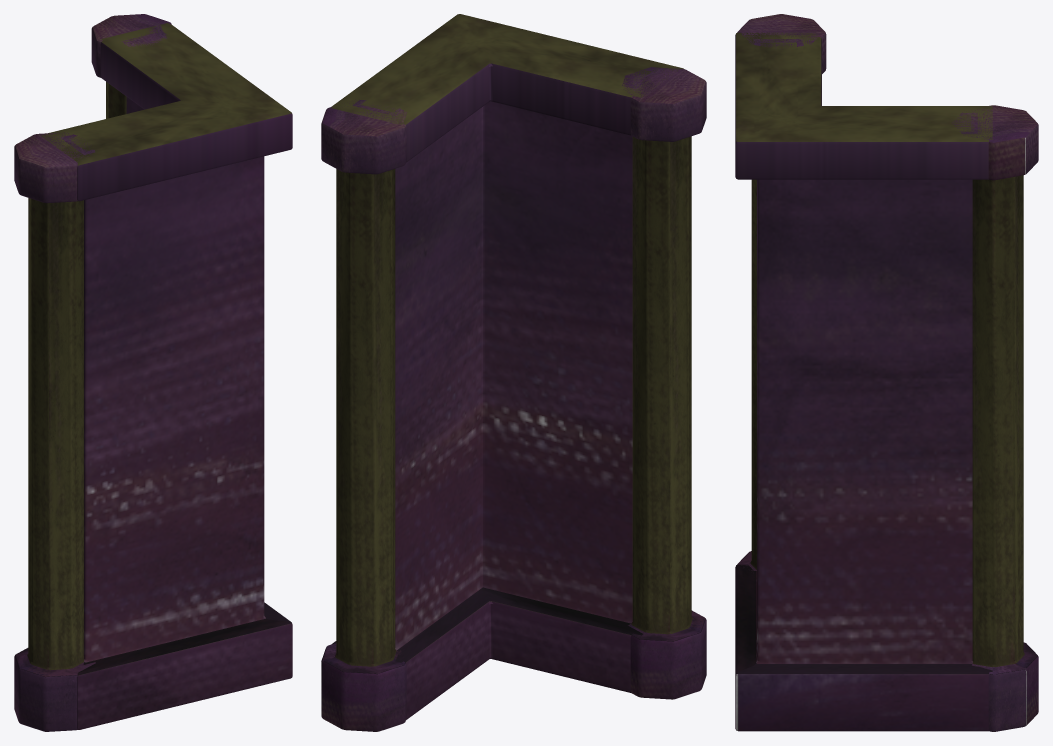
Rendered from MANOR_CORNER.obj.
3 renders of one model, left to right at view 1: azimuth 30°, elevation 25°; view 2: azimuth 150°, elevation 25°; view 3: azimuth 270°, elevation 25°, orthographic. The views are drawn at different scales.
Parts seen in each view (by area): view 1: MANOR_CORNER.006; view 2: MANOR_CORNER.006; view 3: MANOR_CORNER.006.
Part boxes in pixels (left/top/right/bottom): MANOR_CORNER.006: left=14, top=14, right=292, bottom=731; MANOR_CORNER.006: left=321, top=14, right=706, bottom=731; MANOR_CORNER.006: left=735, top=14, right=1038, bottom=731.
Bounding box in the file's own units: 1.41 × 3 × 1.4.
